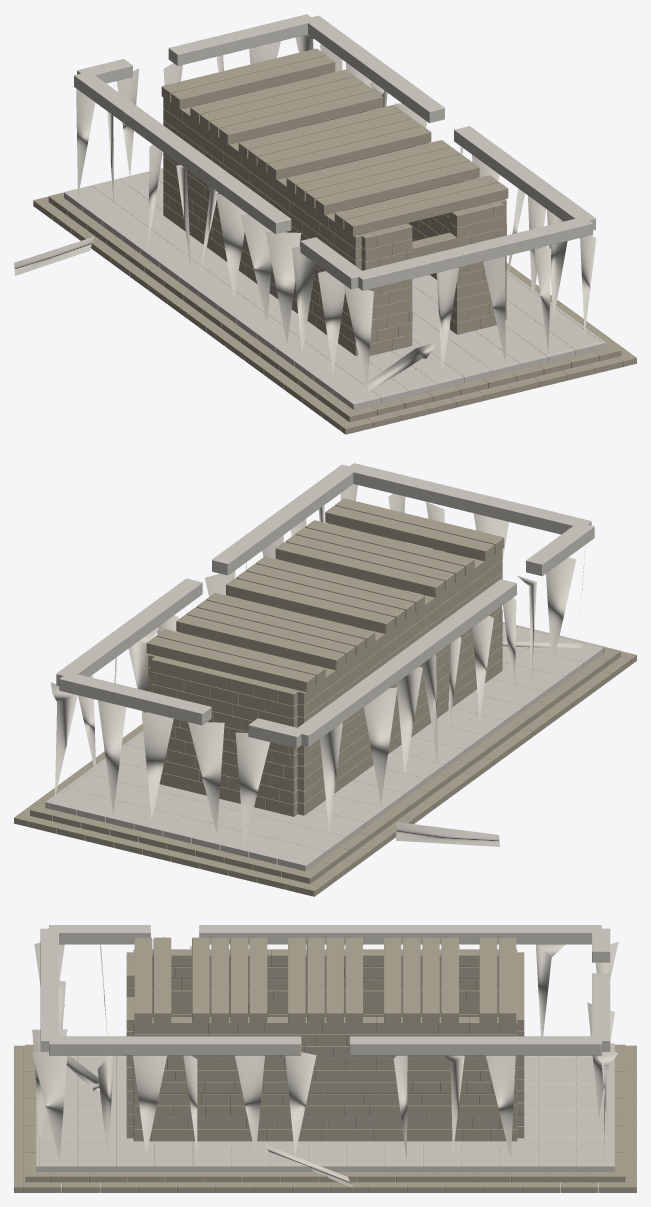
The model's file is temple-ruins-far.glb.
The picture shows the model from 3 angles, top to bottom: view 1: azimuth 30°, elevation 25°; view 2: azimuth 150°, elevation 25°; view 3: azimuth 270°, elevation 25°; orthographic projection. The views are drawn at different scales.
Visible parts, largest first — view 1: temple-ruins-quest / Solstice aged marble, temple-ruins-quest / Solstice weathered sandstone; view 2: temple-ruins-quest / Solstice weathered sandstone, temple-ruins-quest / Solstice aged marble; view 3: temple-ruins-quest / Solstice weathered sandstone, temple-ruins-quest / Solstice aged marble.
Part boxes in pixels (<box>): temple-ruins-quest / Solstice aged marble: <box>14,14,606,409</box>; temple-ruins-quest / Solstice weathered sandstone: <box>33,48,636,434</box>; temple-ruins-quest / Solstice weathered sandstone: <box>14,498,636,896</box>; temple-ruins-quest / Solstice aged marble: <box>45,463,605,871</box>; temple-ruins-quest / Solstice weathered sandstone: <box>14,937,636,1192</box>; temple-ruins-quest / Solstice aged marble: <box>32,925,618,1187</box>.
Bounding box in the file's own units: 29.11 × 10.15 × 38.99.
